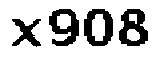0: (82, 5, 114, 48)
8: (116, 4, 152, 50)
9: (43, 7, 82, 50)
x: (9, 15, 41, 51)
